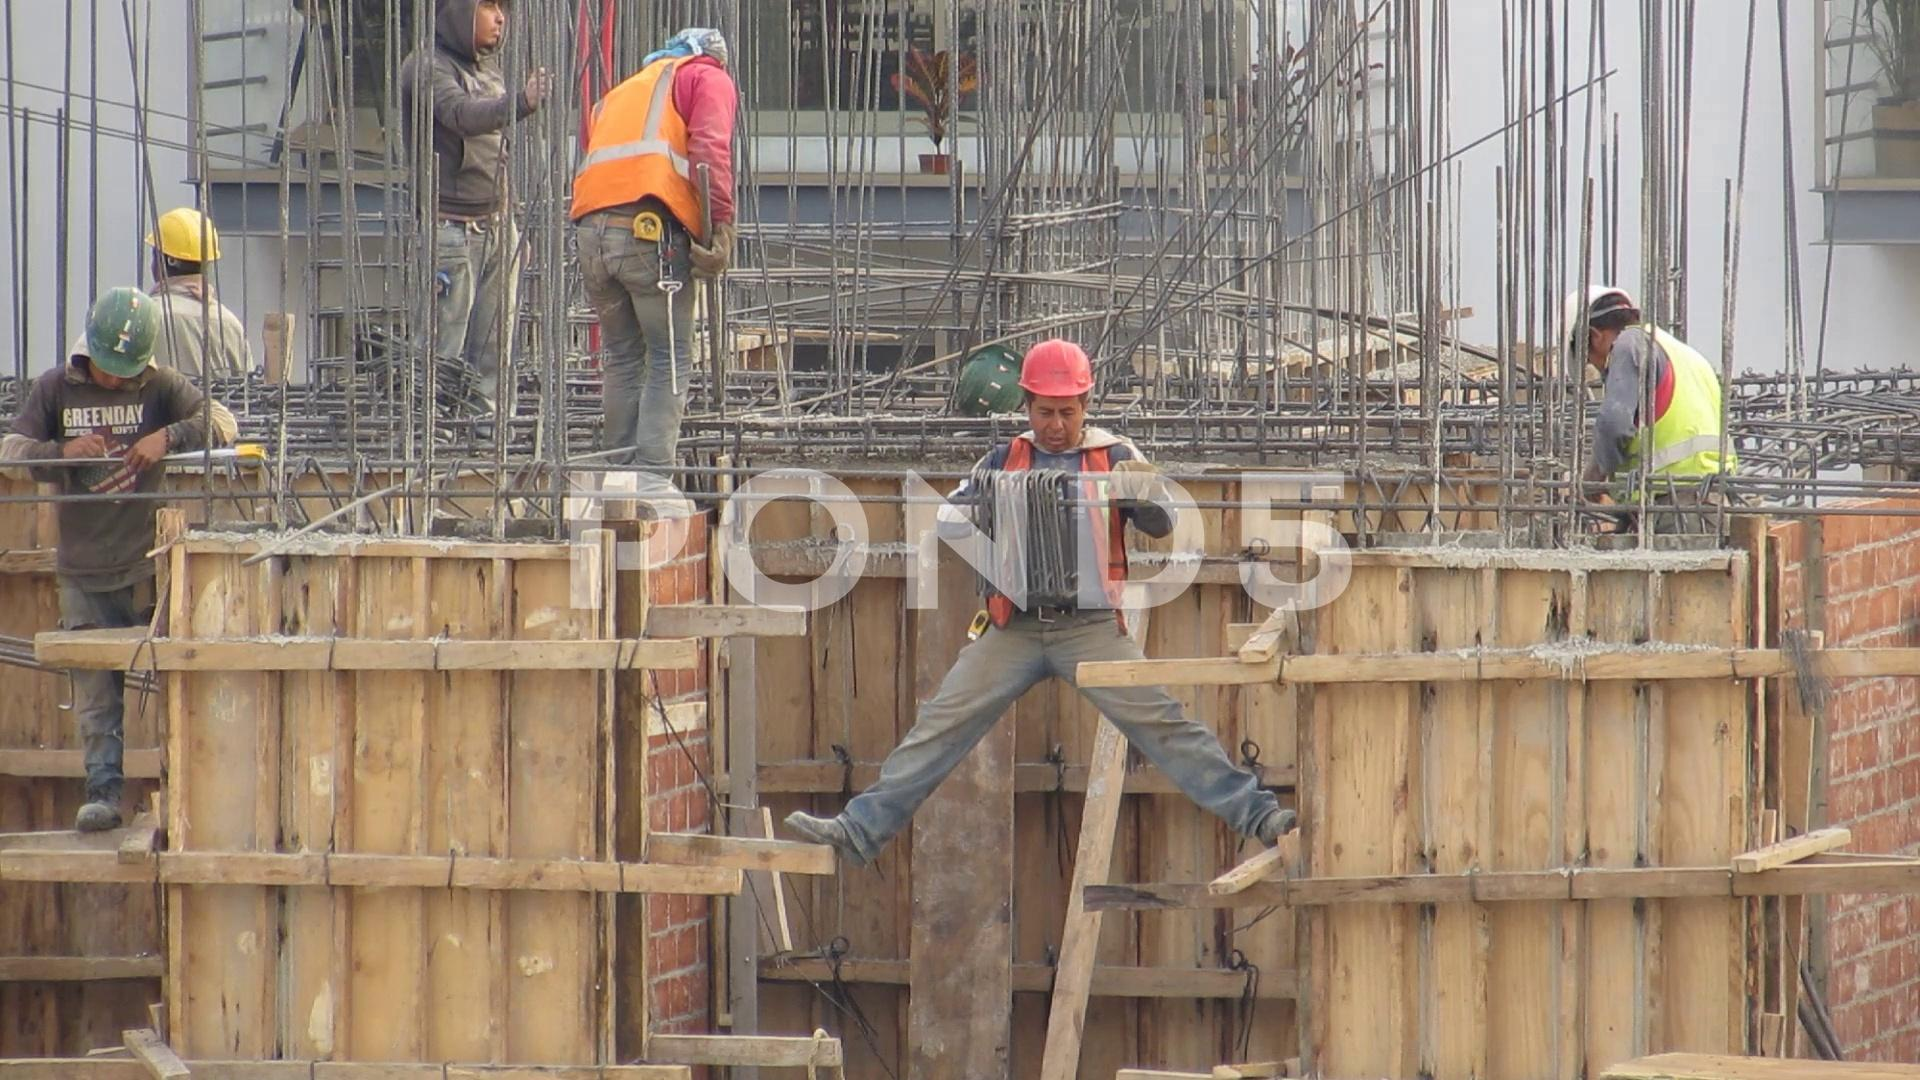hat: (1009, 309, 1146, 479), (1521, 256, 1649, 394), (124, 164, 234, 306), (66, 266, 179, 404)
no hat: (649, 1, 766, 94), (416, 1, 539, 89)
no vest: (19, 334, 196, 651), (374, 49, 539, 251), (144, 264, 274, 434)
vest: (946, 426, 1219, 641), (1606, 311, 1749, 594), (574, 44, 719, 304)
